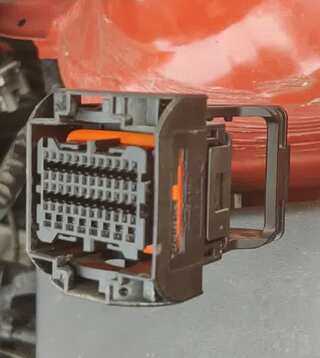connector: (25, 87, 252, 307)
